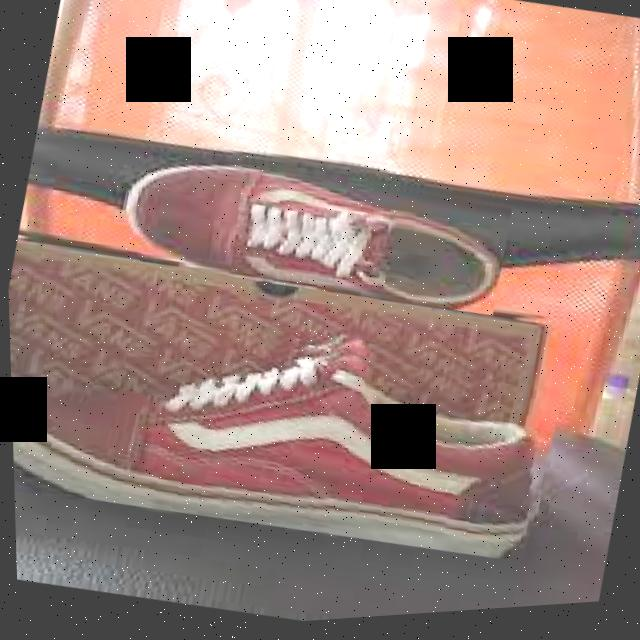shoe: (7, 266, 569, 598), (107, 125, 515, 342)
